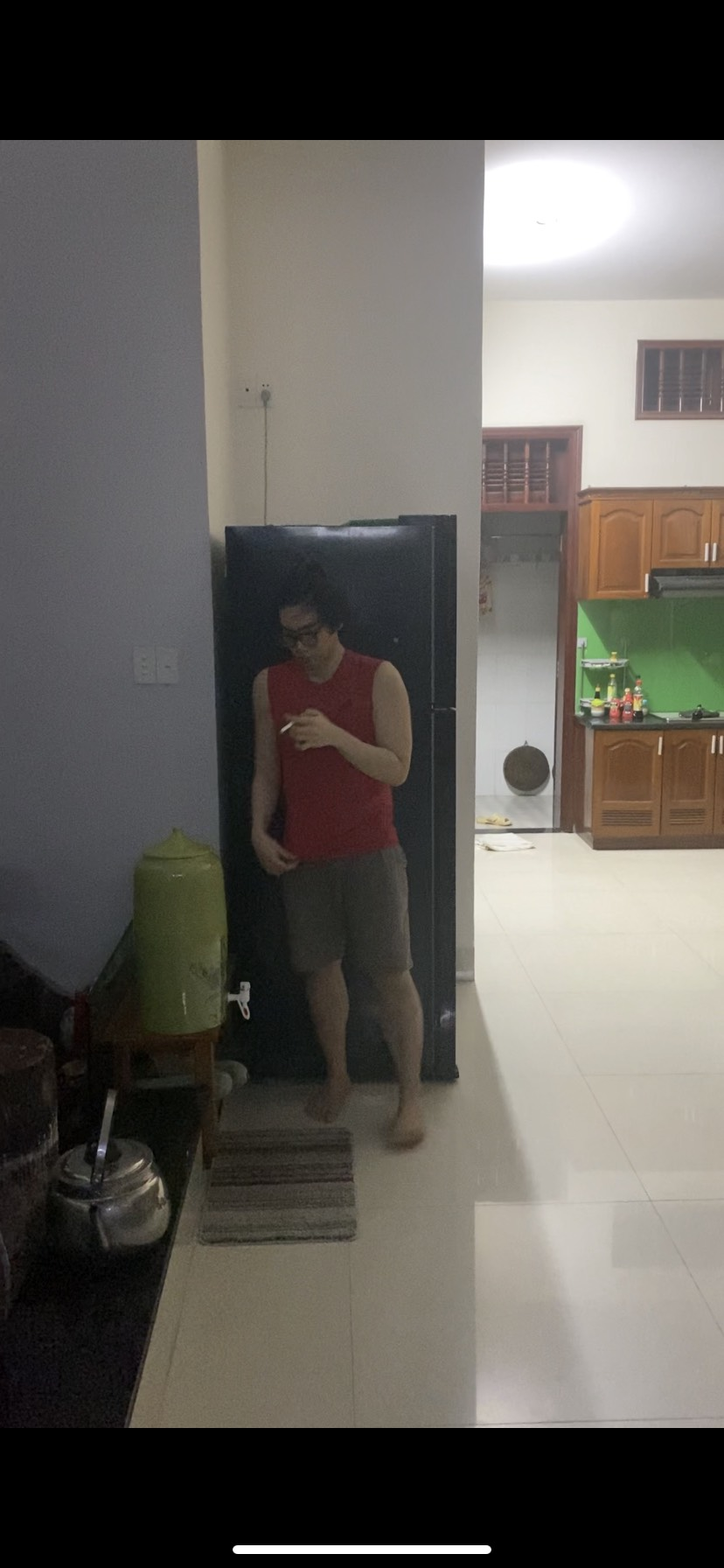cigarette: (278, 718, 296, 736)
person: (244, 510, 439, 1170)
